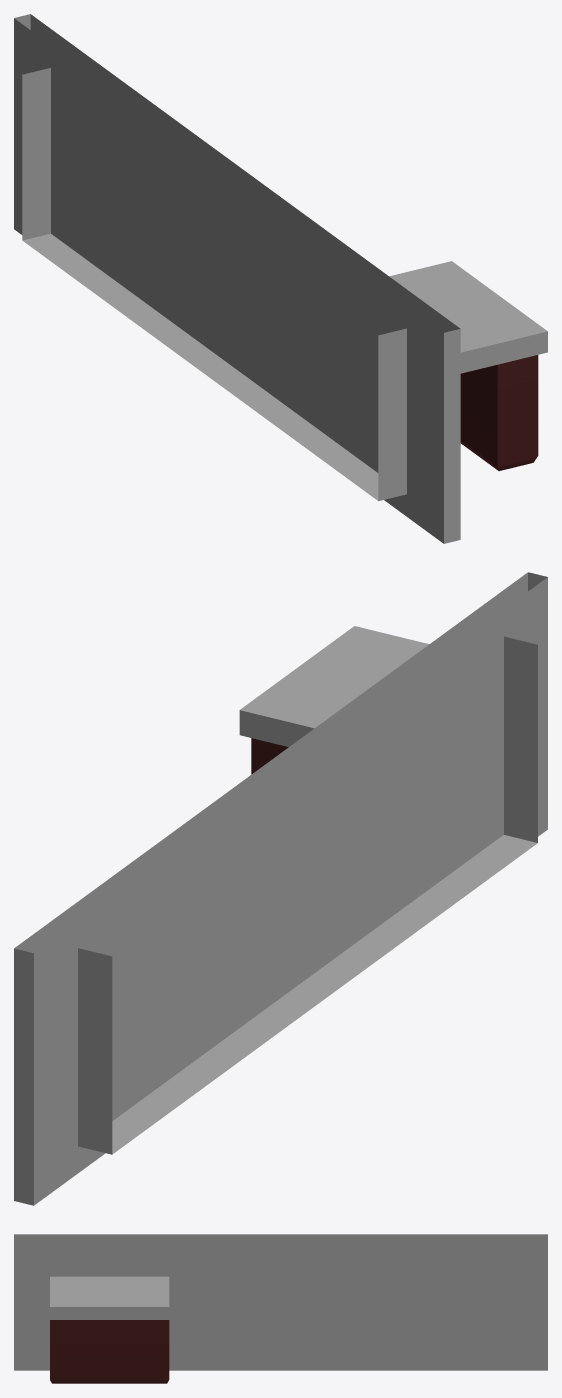
The model's file is BathroomLight 1.fbx.
The picture shows the model from 3 angles, top to bottom: view 1: azimuth 30°, elevation 25°; view 2: azimuth 150°, elevation 25°; view 3: azimuth 270°, elevation 25°; orthographic projection. The views are drawn at different scales.
Visible parts, largest first — view 1: pCube87, pCube88; view 2: pCube87, pCube88; view 3: pCube87, pCube88.
Part boxes in pixels (x1,y1,x2,y2): pCube87: [14, 14, 460, 543]; pCube88: [389, 261, 547, 470]; pCube87: [14, 572, 547, 1205]; pCube88: [239, 626, 429, 774]; pCube87: [14, 1234, 547, 1370]; pCube88: [50, 1276, 169, 1383].
Size of the model in its own units: 0.3374 by 0.4217 by 1.56.
